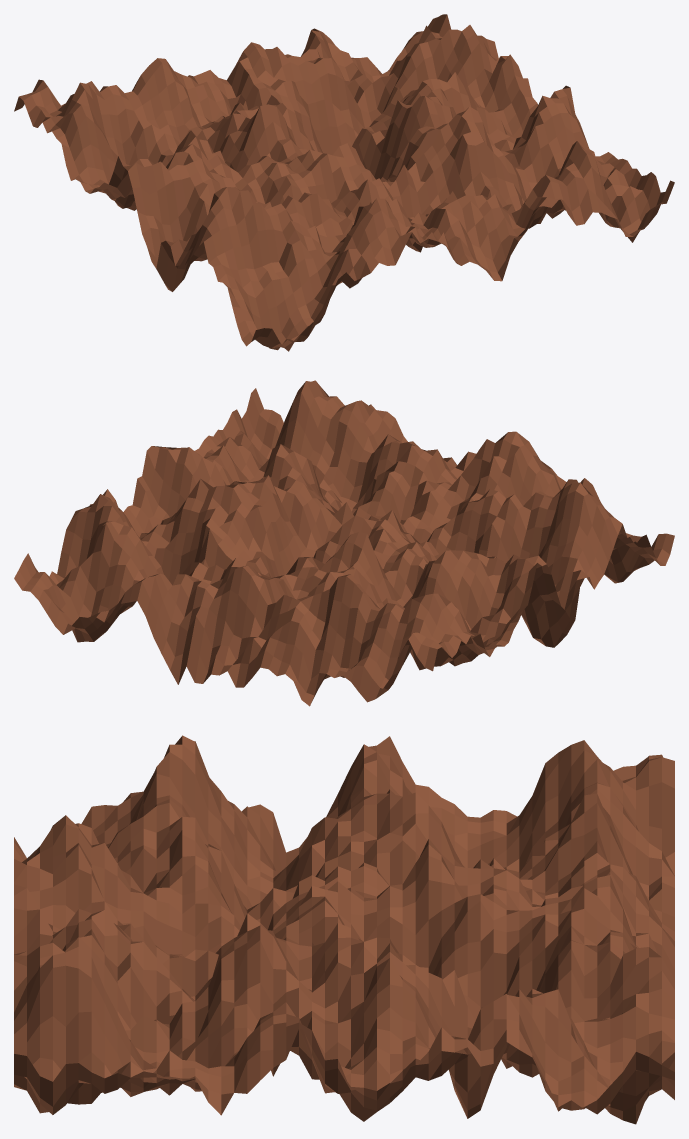
The model's file is Soil.fbx.
The picture shows the model from 3 angles, top to bottom: view 1: azimuth 30°, elevation 25°; view 2: azimuth 150°, elevation 25°; view 3: azimuth 270°, elevation 25°; orthographic projection. The views are drawn at different scales.
Visible parts, largest first — view 1: Plane; view 2: Plane; view 3: Plane.
Part boxes in pixels (x1,y1,x2,y2): Plane: (14, 14, 674, 351); Plane: (14, 380, 674, 706); Plane: (14, 735, 674, 1124).
Size of the model in its own units: 200 by 61.78 by 200.
